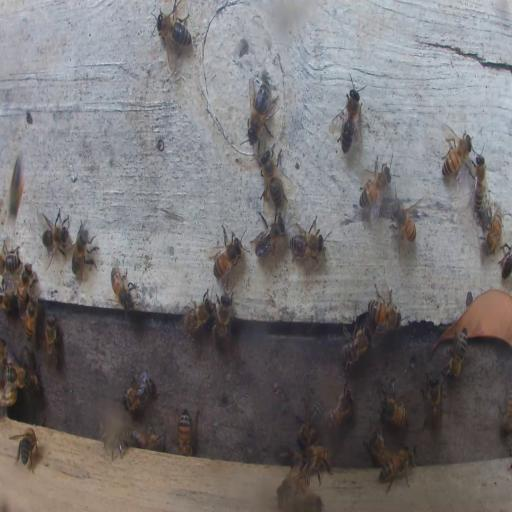bee: (331, 82, 364, 152), (358, 155, 392, 222), (246, 77, 278, 138), (211, 223, 244, 280), (40, 206, 72, 261), (156, 4, 192, 52), (379, 446, 414, 494), (70, 216, 96, 280), (260, 151, 286, 214), (441, 128, 472, 180), (289, 216, 324, 262), (389, 194, 420, 245), (123, 367, 155, 412), (253, 212, 285, 256), (10, 426, 39, 472), (340, 325, 371, 367), (325, 386, 353, 432), (300, 445, 333, 484), (181, 293, 212, 334), (110, 265, 136, 312), (8, 154, 26, 220), (422, 375, 444, 428), (444, 328, 468, 376), (296, 405, 321, 449), (275, 469, 309, 501), (214, 292, 233, 342), (483, 208, 503, 255), (380, 394, 407, 427), (365, 428, 388, 466), (368, 300, 399, 328), (43, 314, 59, 367), (498, 381, 512, 440), (474, 154, 486, 217), (16, 264, 34, 306), (23, 294, 38, 341), (137, 425, 164, 451), (178, 410, 192, 456), (103, 430, 127, 456), (2, 364, 29, 386), (498, 244, 512, 279), (22, 349, 38, 379), (3, 250, 22, 274), (0, 285, 15, 312), (279, 449, 298, 466), (3, 386, 17, 409)
